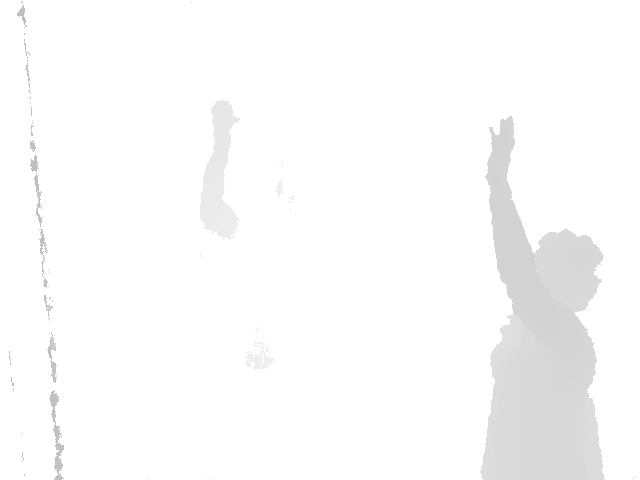hand: (485, 114, 516, 180)
head: (530, 229, 606, 315)
person: (478, 115, 606, 479)
